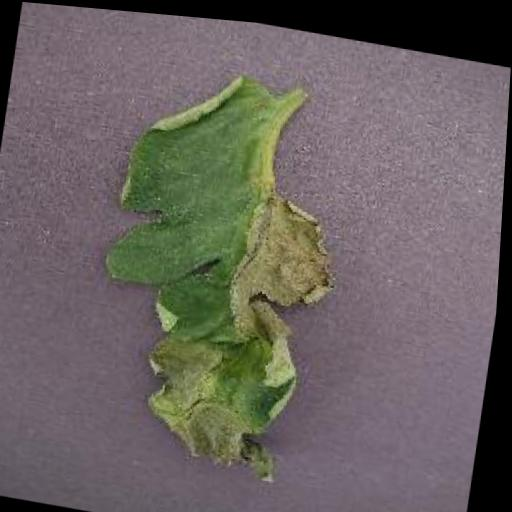Late Blight: (78, 53, 362, 488)
